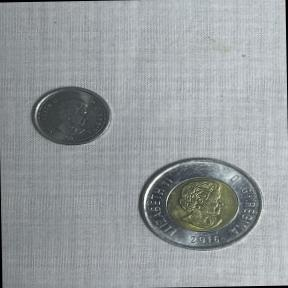Canada-10cent-B: (26, 80, 116, 152)
Canada-2Dollar-B: (132, 149, 270, 257)
